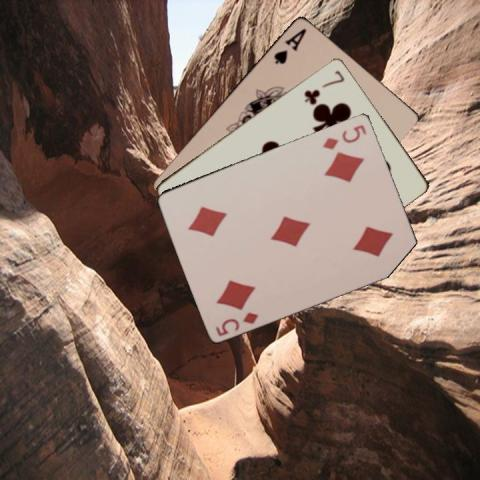5d: (319, 121, 368, 151), (213, 309, 260, 337)
7c: (301, 66, 346, 104)
As: (271, 25, 308, 65)
